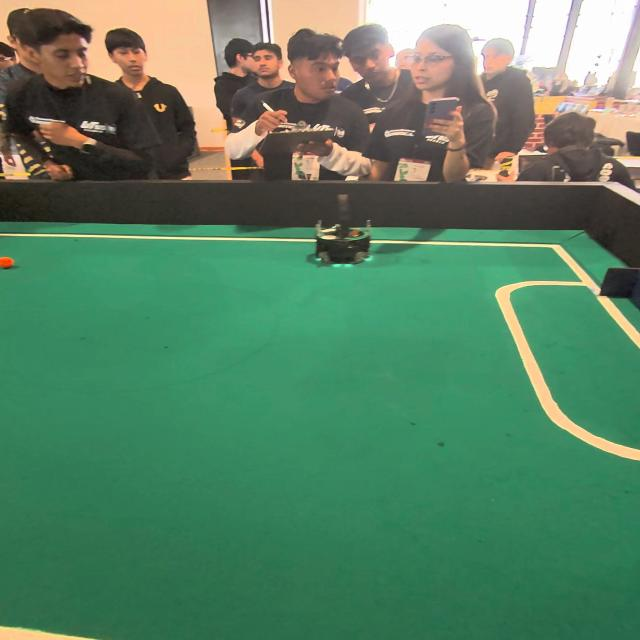Robot: (309, 192, 377, 274)
pelota: (1, 253, 22, 276)
